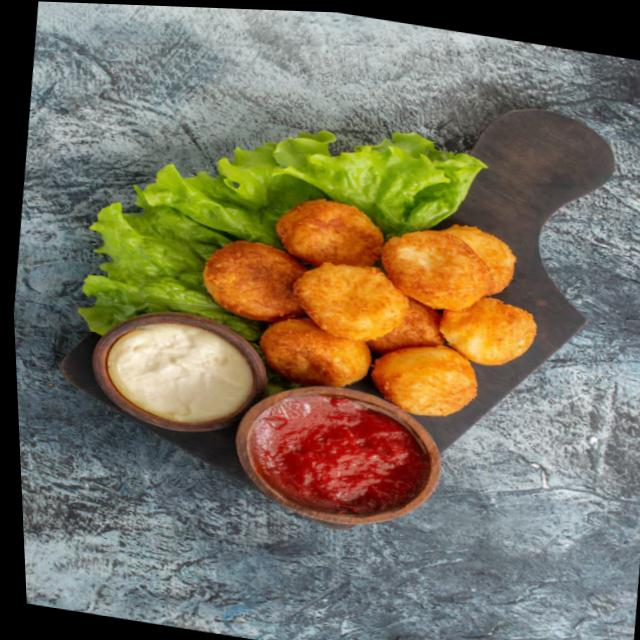BONDA: (198, 196, 538, 416)
RED CHUTNEY: (242, 393, 430, 513)
WHITE CHUTNEY: (104, 322, 248, 420)
